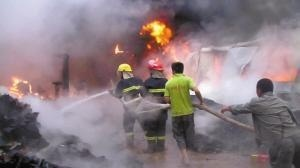fire: (140, 19, 173, 47), (7, 74, 35, 98)
